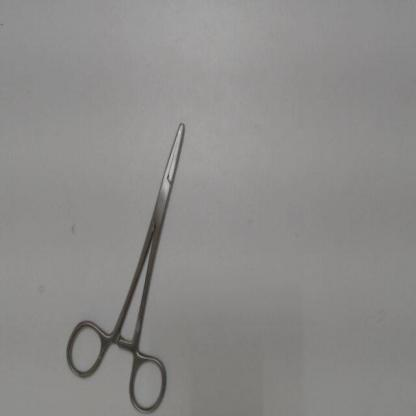Mayo Needle Holder: (60, 112, 192, 415)
